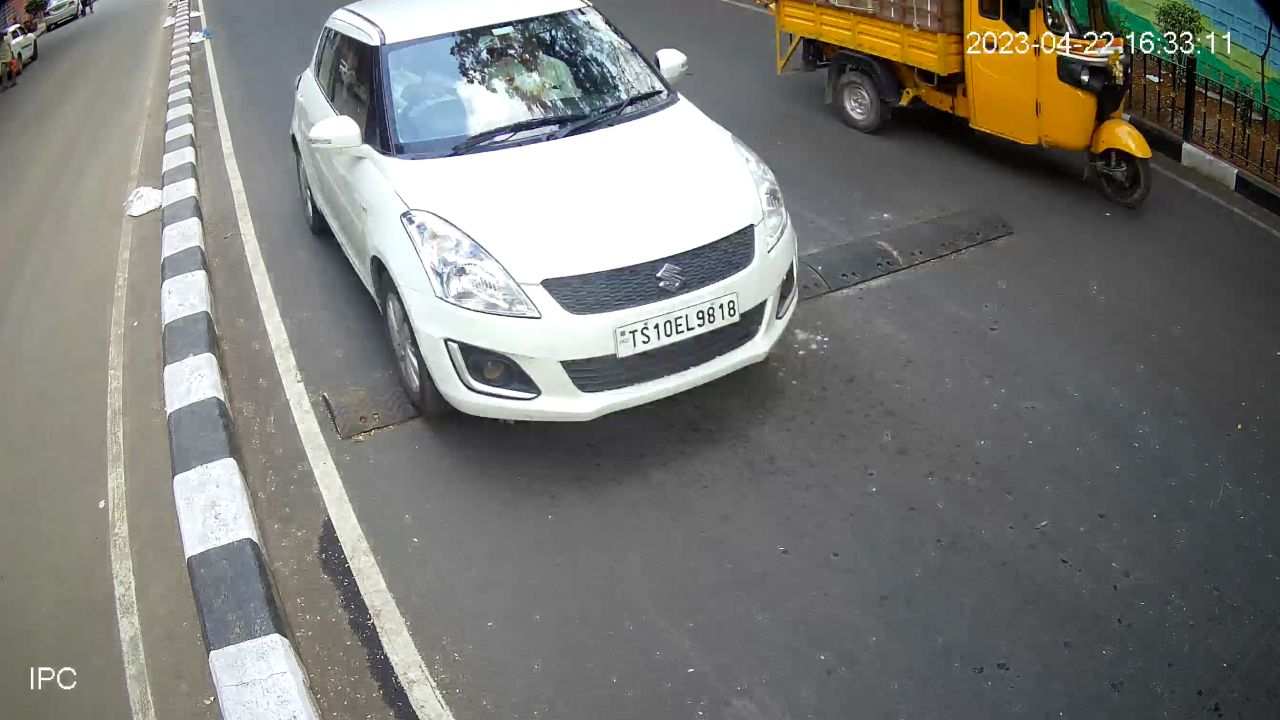license_plate: (612, 288, 748, 365)
